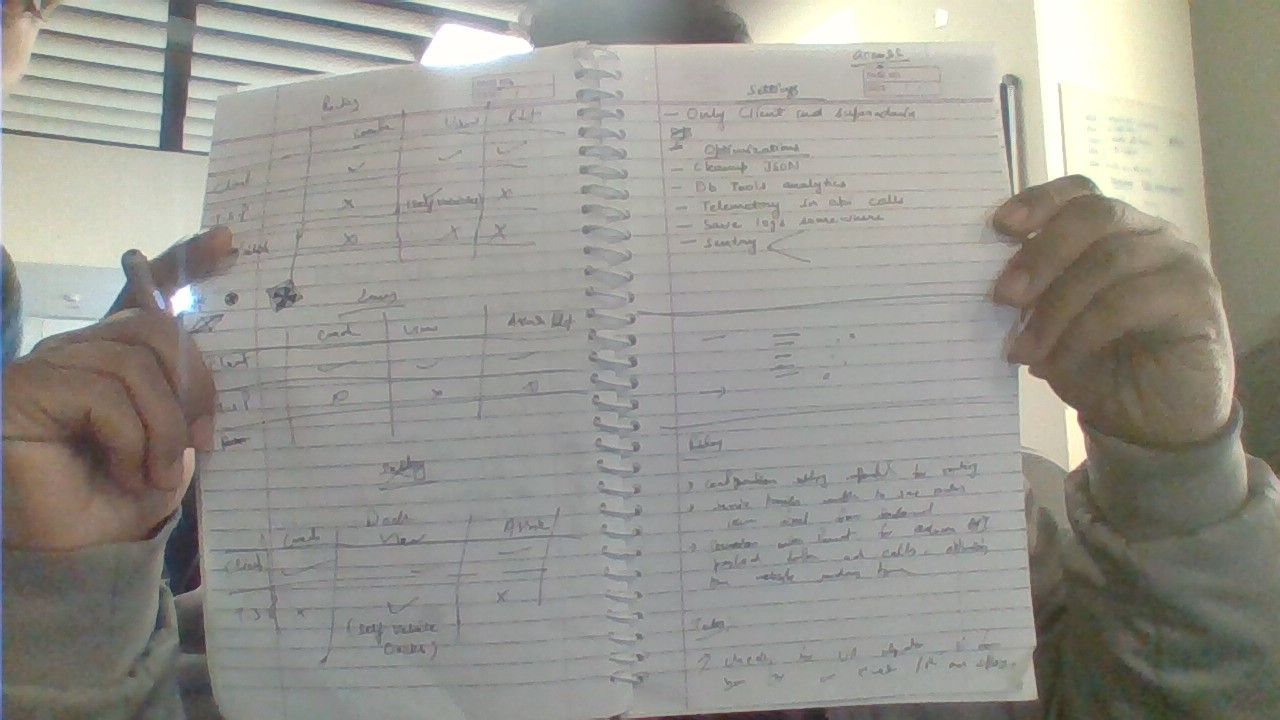notebook: (588, 41, 1034, 718), (189, 48, 634, 720)
